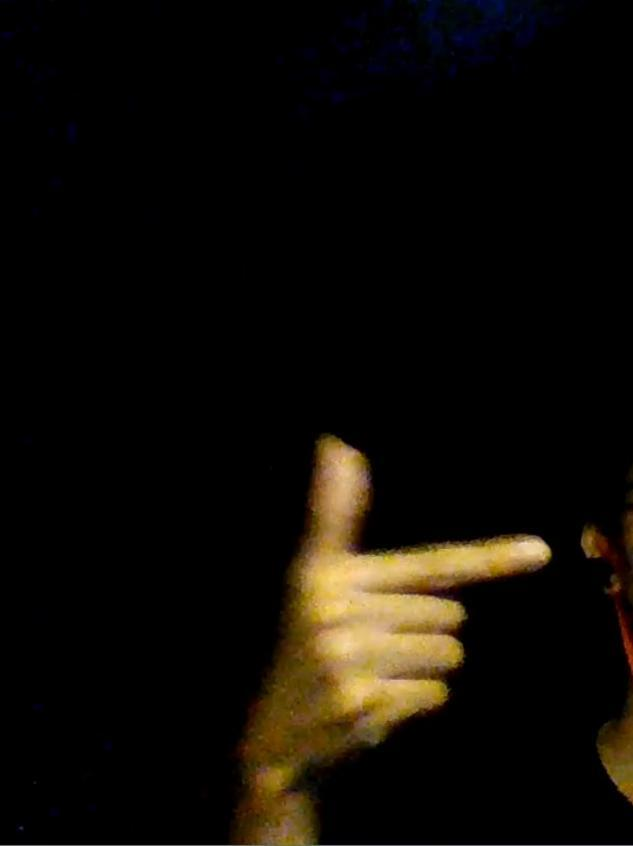g: (245, 439, 554, 776)
